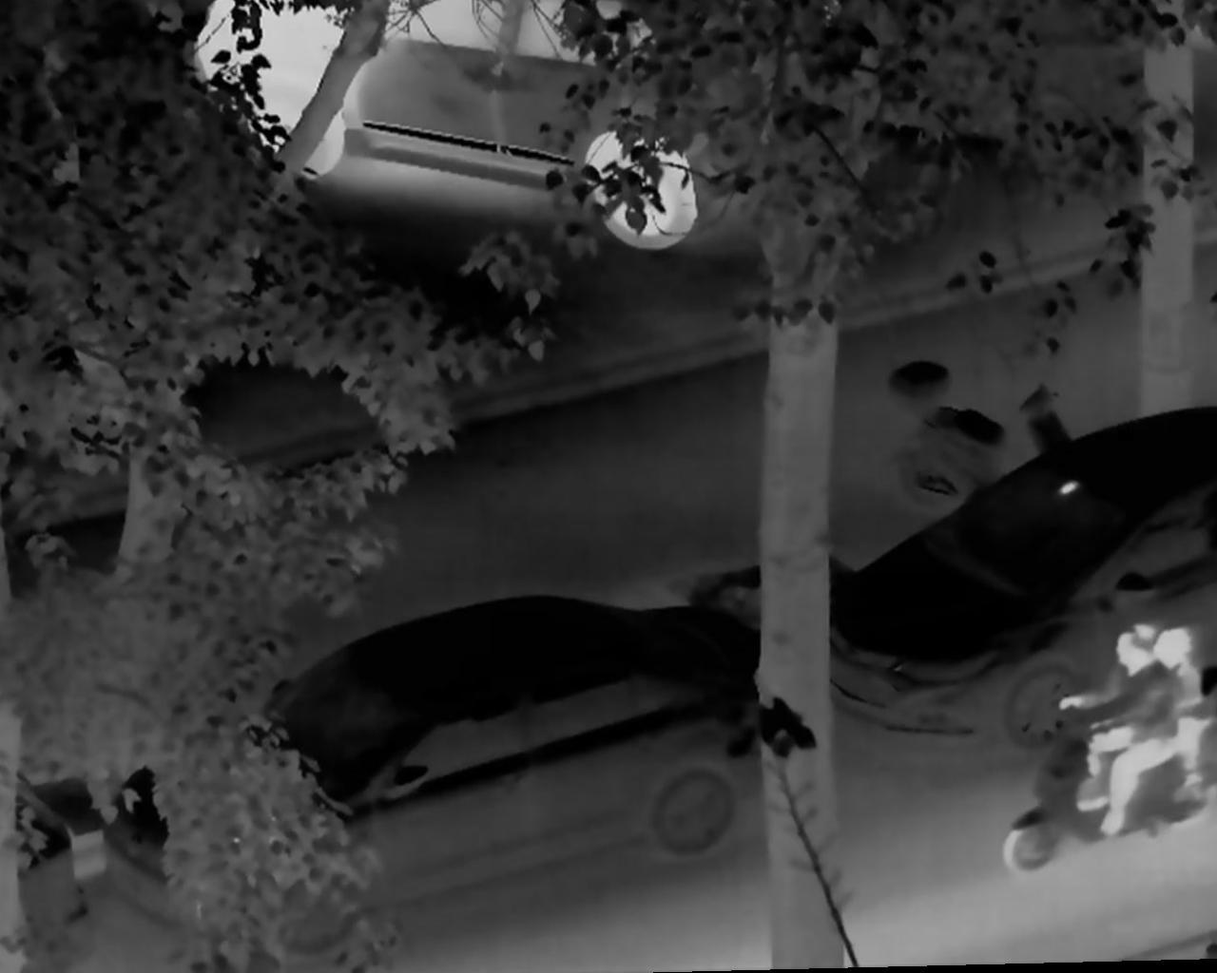person: (1041, 618, 1180, 849), (1144, 626, 1210, 823)
